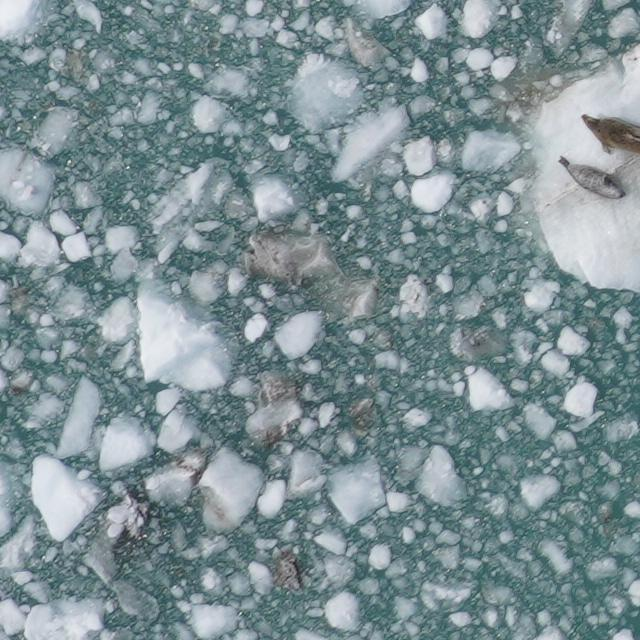seal: (552, 155, 632, 205)
